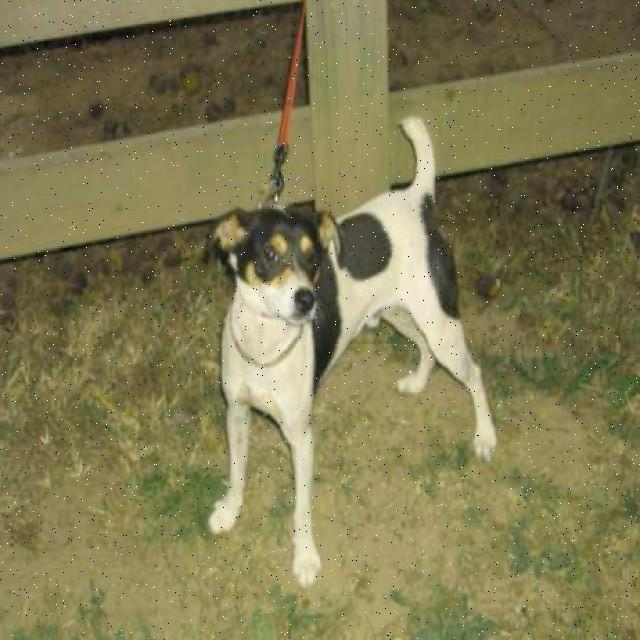Dog: (211, 181, 349, 333)
